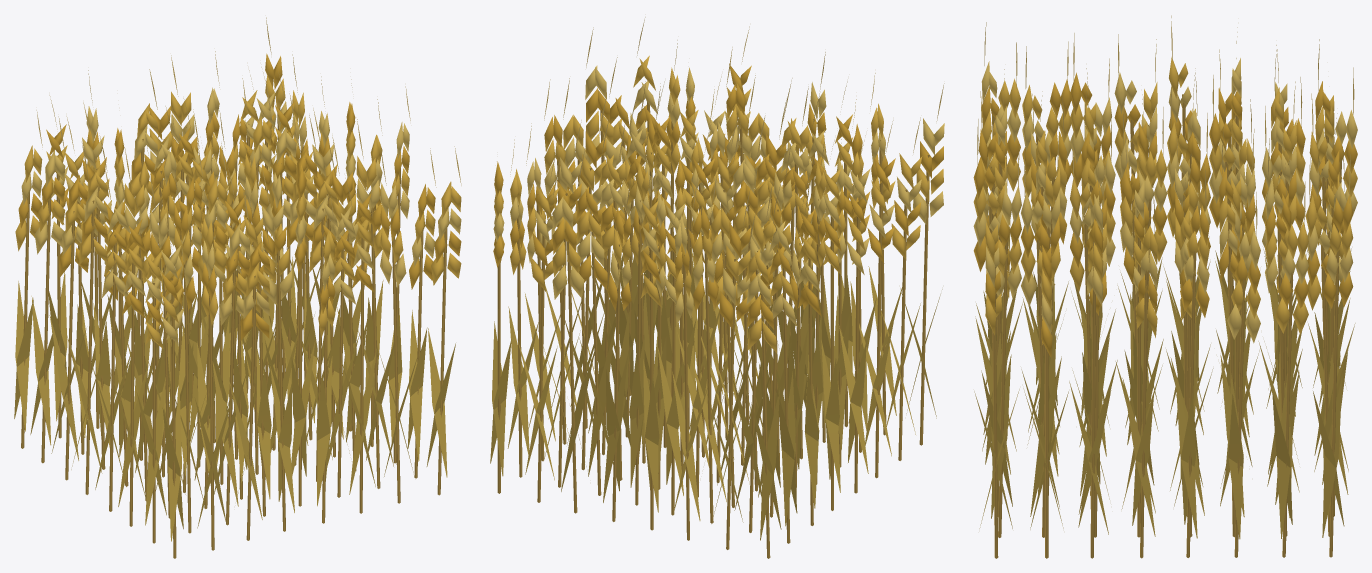
Rendered from crop-cell-wheat-ready.gltf.
The picture shows the model from 3 angles, left to right: view 1: azimuth 30°, elevation 25°; view 2: azimuth 150°, elevation 25°; view 3: azimuth 270°, elevation 25°; orthographic projection. The views are drawn at different scales.
Visible parts, largest first — view 1: crop-cell-wheat-ready; view 2: crop-cell-wheat-ready; view 3: crop-cell-wheat-ready.
Part boxes in pixels (x1,y1,x2,y2): crop-cell-wheat-ready: [14, 17, 461, 558]; crop-cell-wheat-ready: [490, 17, 944, 558]; crop-cell-wheat-ready: [973, 15, 1357, 558].
Size of the model in its own units: 0.5869 by 0.6959 by 0.5884.
